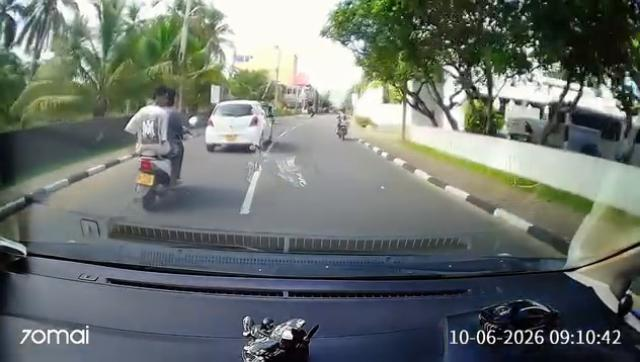no helmet: (151, 87, 169, 113)
